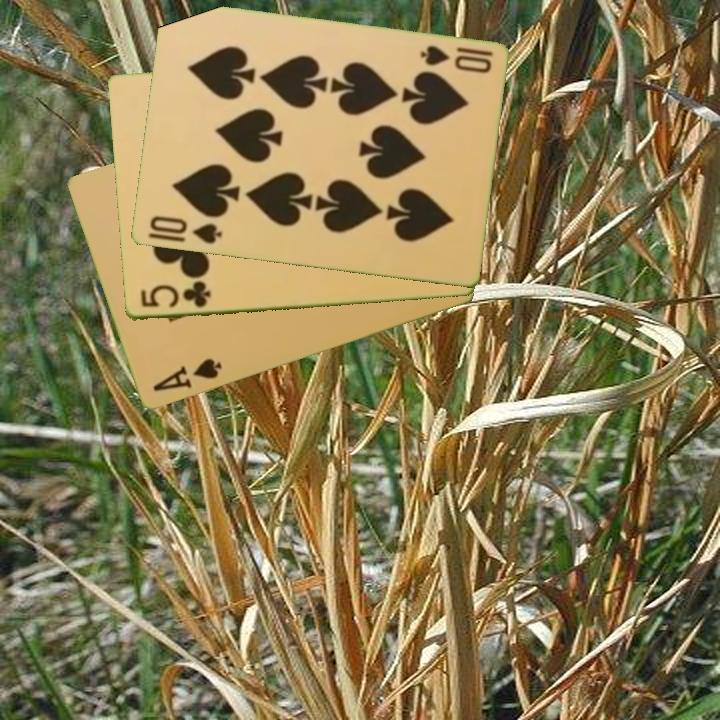10s: (146, 212, 225, 248), (416, 42, 495, 77)
5c: (136, 278, 213, 311)
As: (149, 355, 225, 395)
